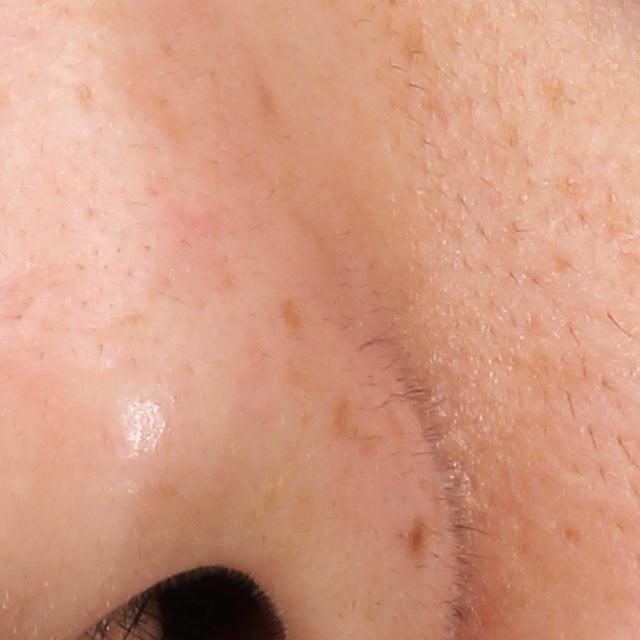melasma: (330, 380, 381, 457), (379, 1, 427, 73), (529, 65, 579, 123), (276, 289, 309, 342), (406, 516, 432, 560)
